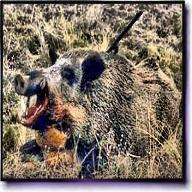boar: (4, 38, 192, 177)
